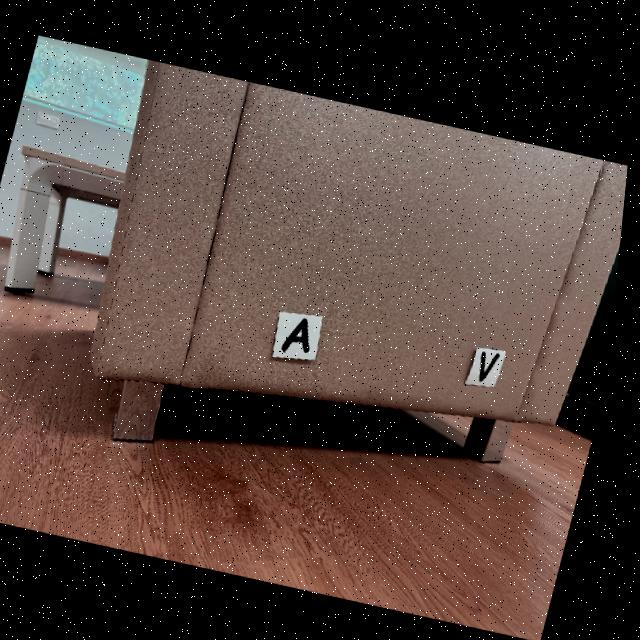A: (288, 315, 317, 350)
V: (486, 345, 506, 376)
